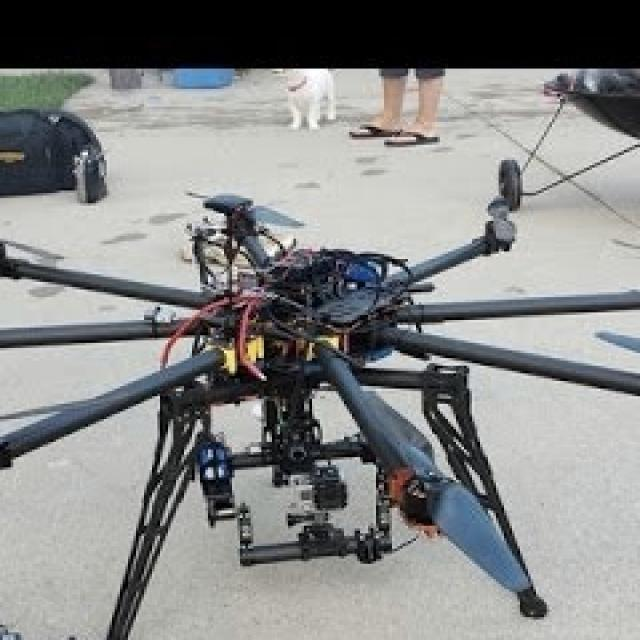drone: (0, 185, 640, 597)
